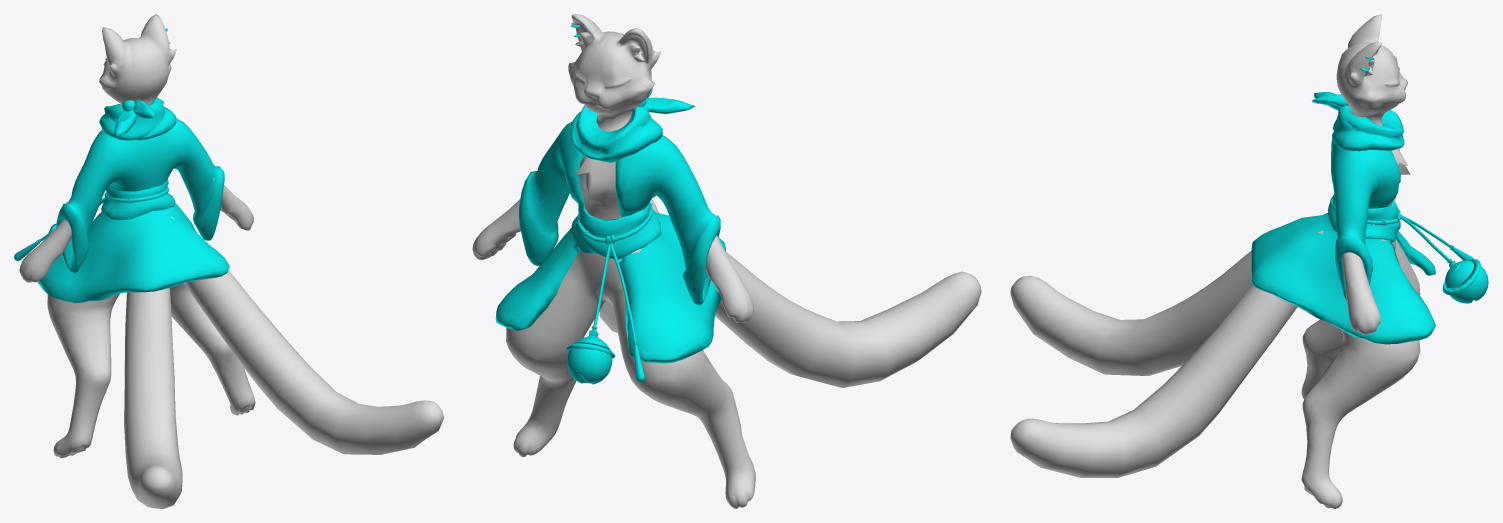
Rendered from Model_NPC_Silvain.fbx.
3 views of the same model, side by side, from view 1: azimuth 30°, elevation 25°; view 2: azimuth 150°, elevation 25°; view 3: azimuth 270°, elevation 25° (orthographic). The views are drawn at different scales.
Visible parts, largest first — view 1: Model_NPC_Silvain; view 2: Model_NPC_Silvain; view 3: Model_NPC_Silvain.
Part boxes in pixels (x1=…): Model_NPC_Silvain: x1=14, y1=14, x2=443, y2=508; Model_NPC_Silvain: x1=472, y1=14, x2=981, y2=508; Model_NPC_Silvain: x1=1010, y1=14, x2=1488, y2=508.
Size of the model in its own units: 3.85 by 4.92 by 4.92.
